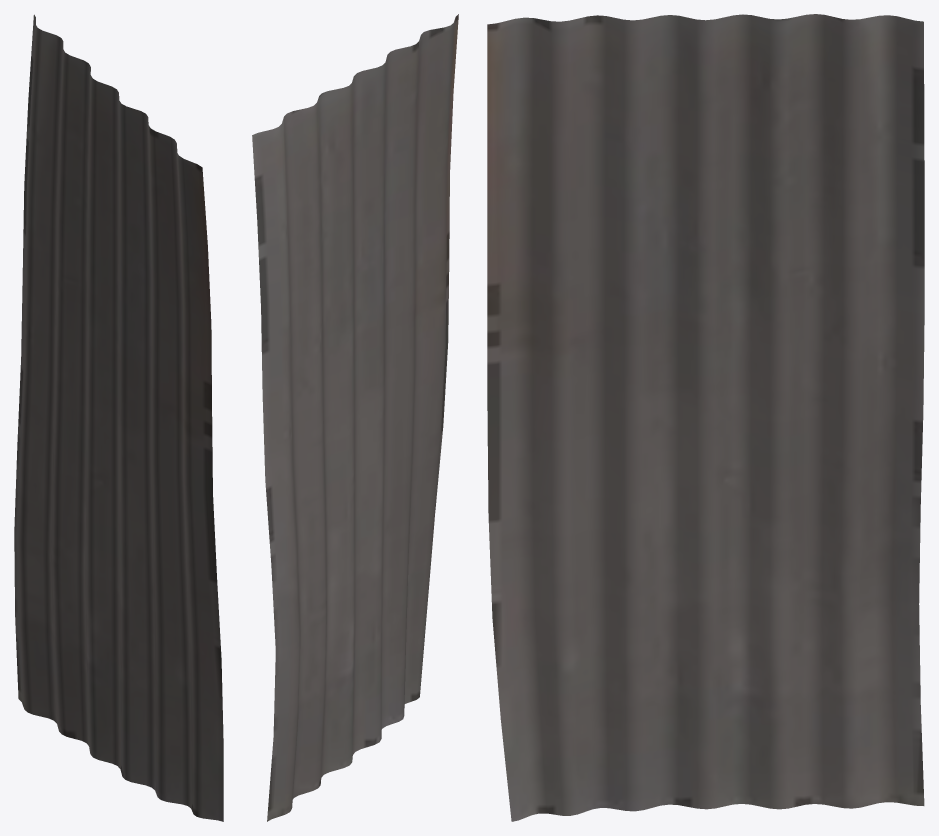
3 views of the same model, side by side, from view 1: azimuth 30°, elevation 25°; view 2: azimuth 150°, elevation 25°; view 3: azimuth 270°, elevation 25° (orthographic). The views are drawn at different scales.
Parts seen in each view (by area): view 1: body0_model0_lod0_mesh0; view 2: body0_model0_lod0_mesh0; view 3: body0_model0_lod0_mesh0.
Part boxes in pixels (x1,y1,x2,y2): body0_model0_lod0_mesh0: (14, 14, 223, 821); body0_model0_lod0_mesh0: (252, 14, 458, 821); body0_model0_lod0_mesh0: (487, 14, 924, 821).
Bounding box in the file's own units: 6.16 × 96 × 47.98.
1 material, 1 textured.
